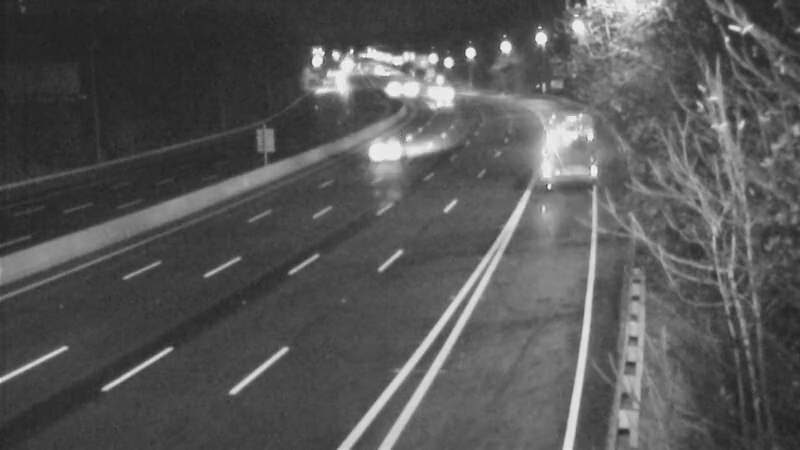vehicle: (388, 63, 438, 113), (363, 62, 413, 112), (407, 71, 457, 121), (417, 68, 467, 118), (411, 79, 461, 129), (531, 108, 581, 158), (369, 123, 419, 173)
